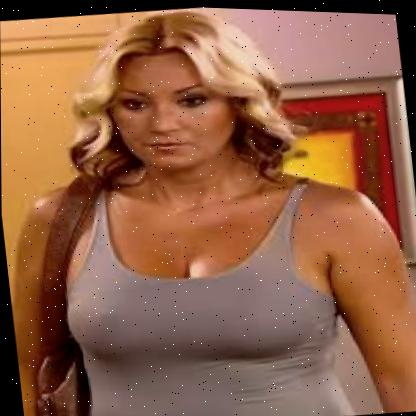person: (84, 3, 269, 183)
